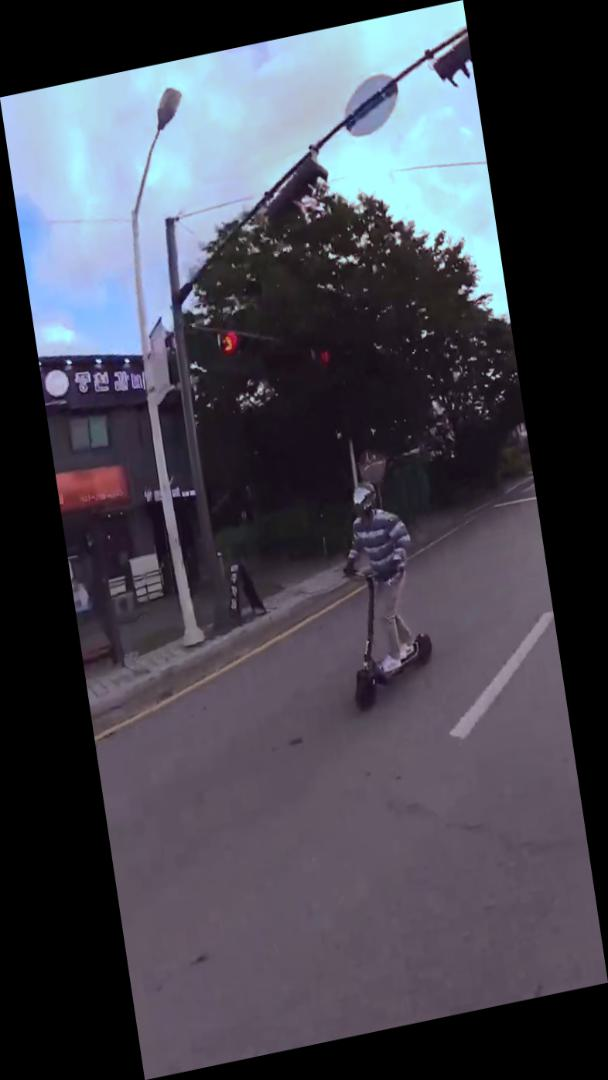helmet: (321, 471, 441, 718)
